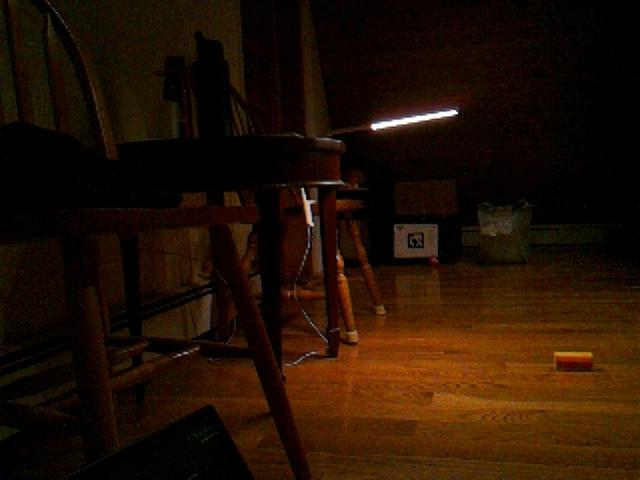yellow: (553, 350, 596, 373)
